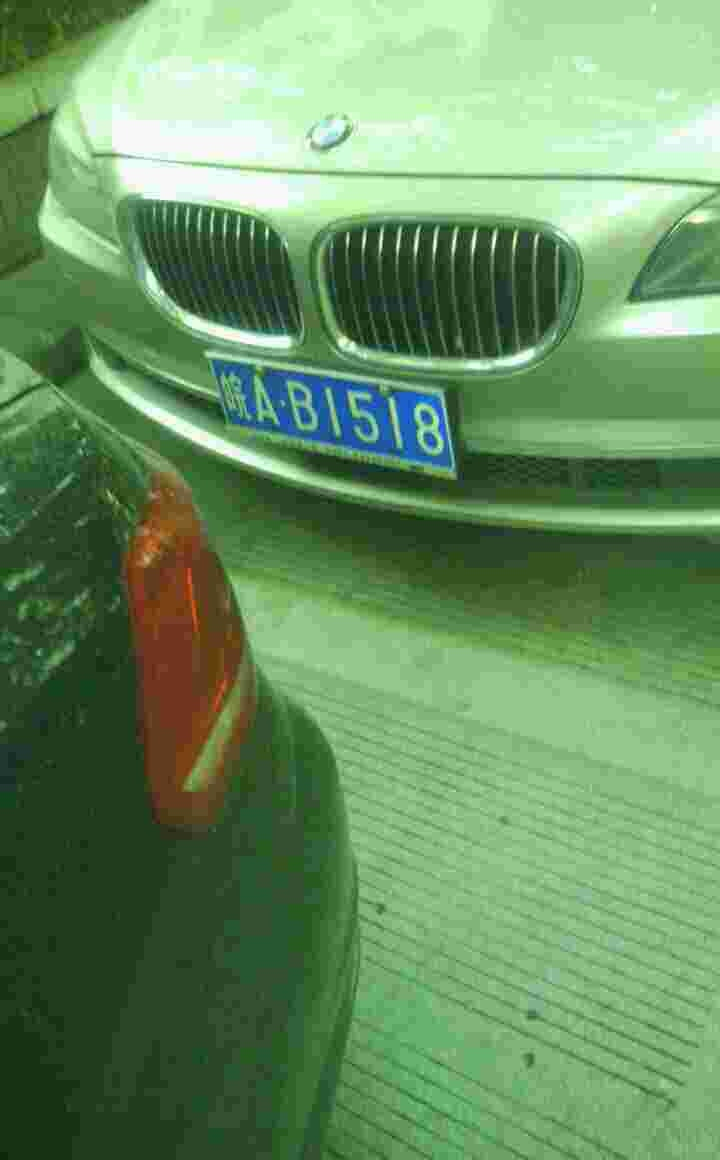license_plate: (212, 359, 451, 474)
